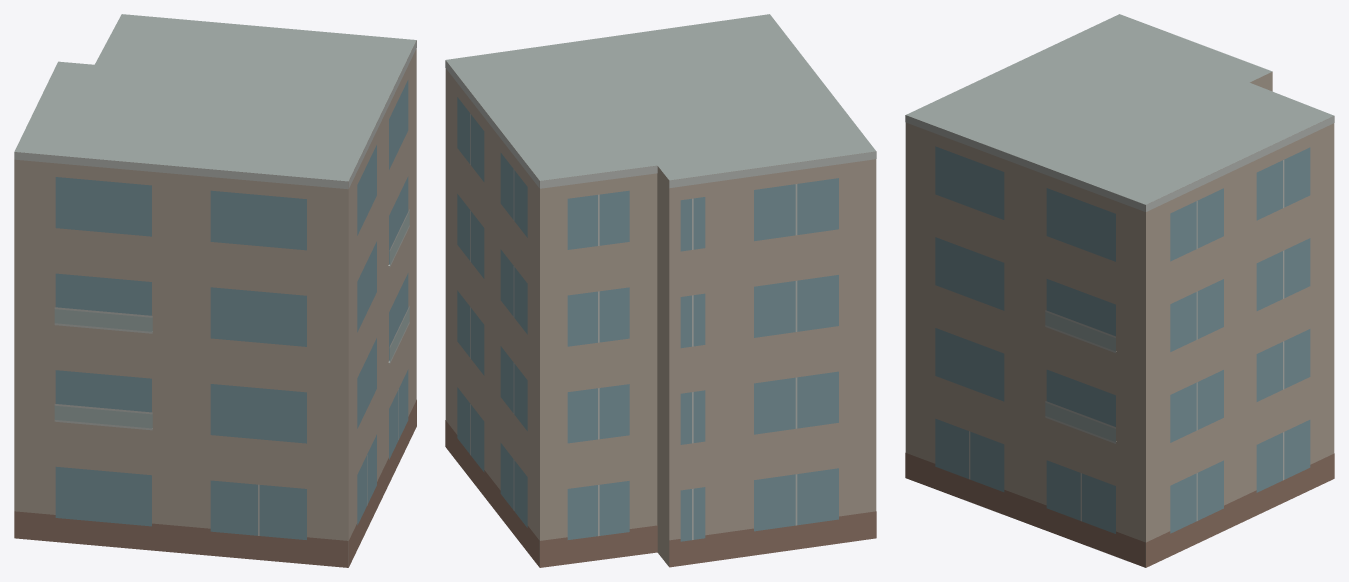
Rendered from survey-upis-32539088.glb.
3 views of the same model, side by side, from view 1: azimuth 30°, elevation 25°; view 2: azimuth 150°, elevation 25°; view 3: azimuth 270°, elevation 25° (orthographic). The views are drawn at different scales.
Visible parts, largest first — view 1: survey-upis-32539088.tmp; view 2: survey-upis-32539088.tmp; view 3: survey-upis-32539088.tmp.
Part boxes in pixels (bbox=[...]): survey-upis-32539088.tmp: bbox=[14, 14, 416, 567]; survey-upis-32539088.tmp: bbox=[445, 14, 876, 567]; survey-upis-32539088.tmp: bbox=[905, 14, 1334, 567].
Size of the model in its own units: 13.65 by 12.1 by 12.96.
